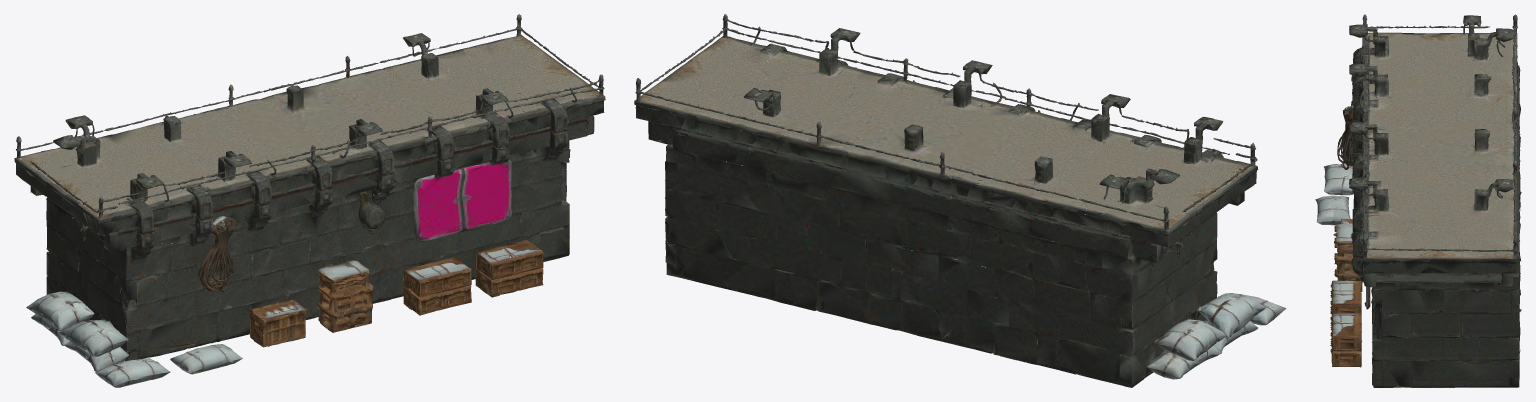
Rendered from barricade.glb.
The picture shows the model from 3 angles, left to right: view 1: azimuth 30°, elevation 25°; view 2: azimuth 150°, elevation 25°; view 3: azimuth 270°, elevation 25°; orthographic projection. The views are drawn at different scales.
Visible parts, largest first — view 1: Mesh_0; view 2: Mesh_0; view 3: Mesh_0.
Part boxes in pixels (box(x1,y1,x2,y2)): Mesh_0: box(14, 14, 605, 387); Mesh_0: box(634, 14, 1285, 387); Mesh_0: box(1315, 14, 1521, 387).
Size of the model in its own units: 1.9 by 0.6663 by 0.7251.
Materials: 1 (1 with a texture image).
